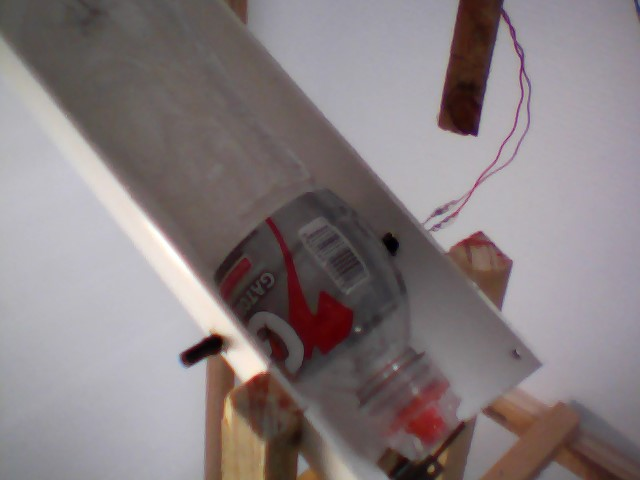plastico: (13, 1, 476, 464)
